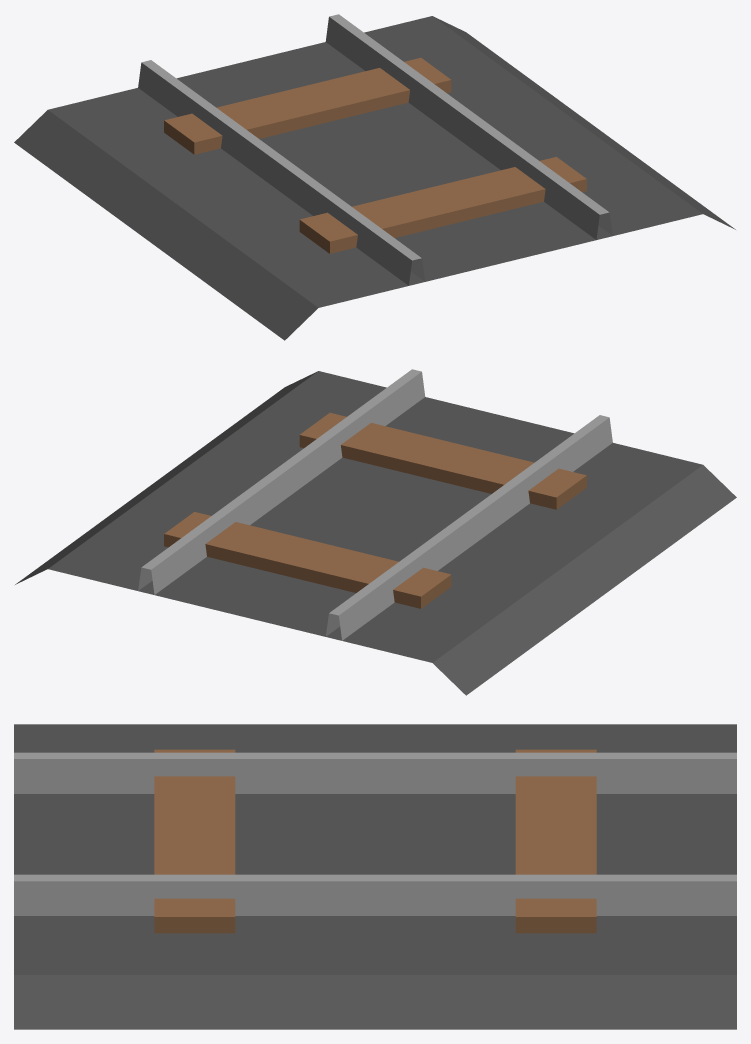
Rendered from 1_straight_small.fbx.
3 views of the same model, one above another, from view 1: azimuth 30°, elevation 25°; view 2: azimuth 150°, elevation 25°; view 3: azimuth 270°, elevation 25° (orthographic). The views are drawn at different scales.
Visible parts, largest first — view 1: 1_straight_small; view 2: 1_straight_small; view 3: 1_straight_small.
Part boxes in pixels (bbox=[...]): 1_straight_small: bbox=[14, 14, 735, 340]; 1_straight_small: bbox=[15, 369, 736, 695]; 1_straight_small: bbox=[14, 724, 736, 1029].
Size of the model in its own units: 1.93 by 0.2 by 2.
